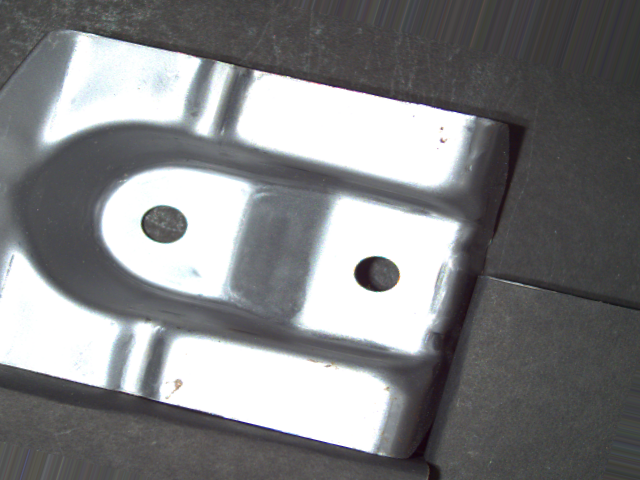defect: (132, 200, 195, 247)
